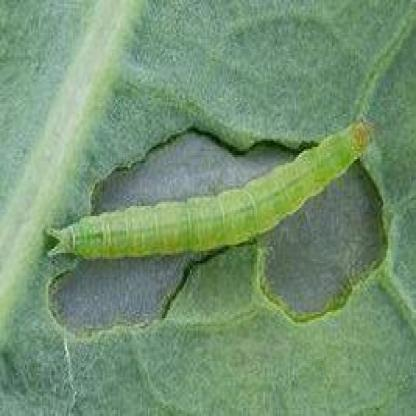armyworm: (44, 118, 373, 266)
